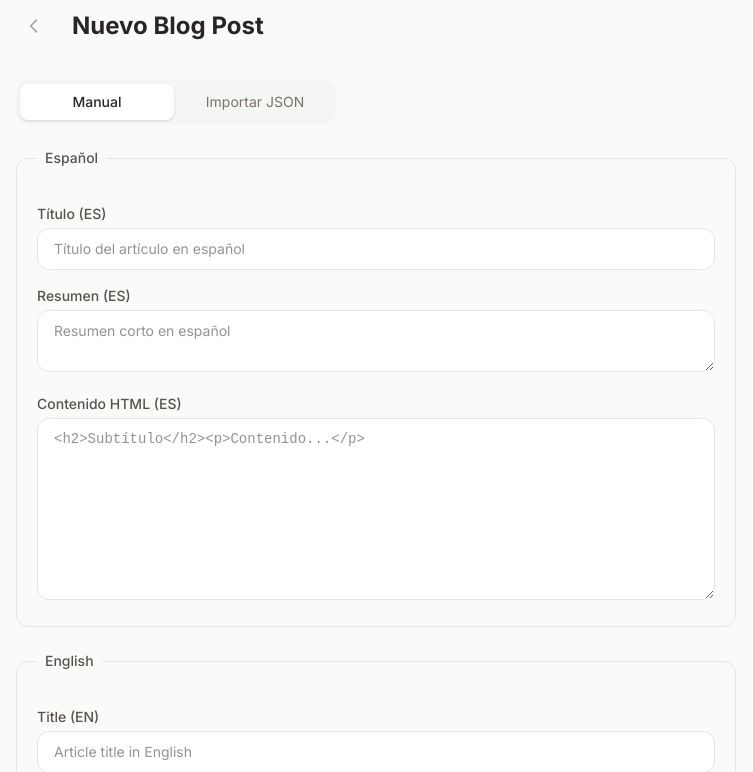
Test: AdminBlogCreatePage › switches to JSON mode when "Importar JSON" tab is clicked
Click the button "Importar JSON" at coordinates (255, 102), box [178,84,332,120]
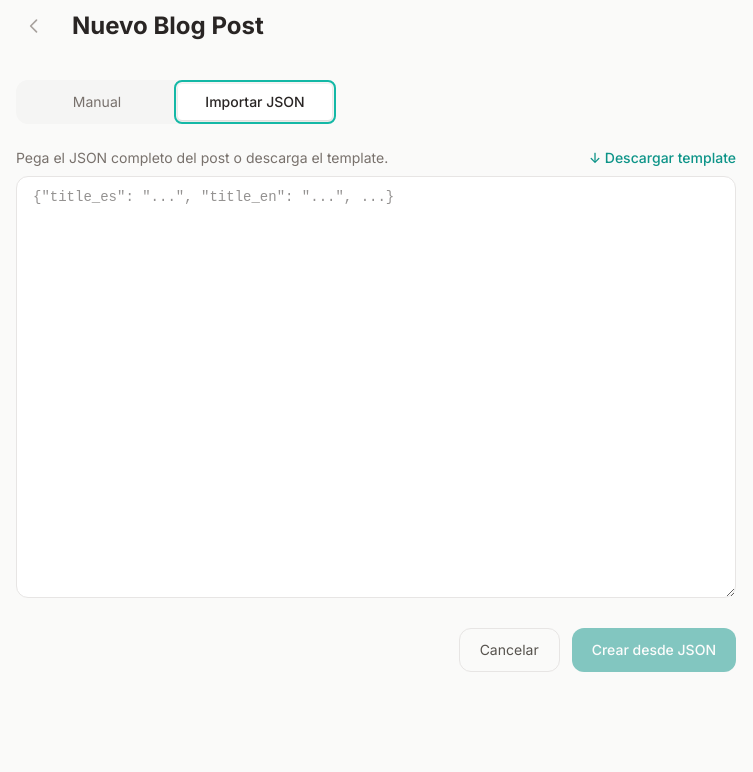
Expected: the button "Crear desde JSON" is shown, [572,628,736,672]
Expected: the label labelled "Título (ES)" is gone
